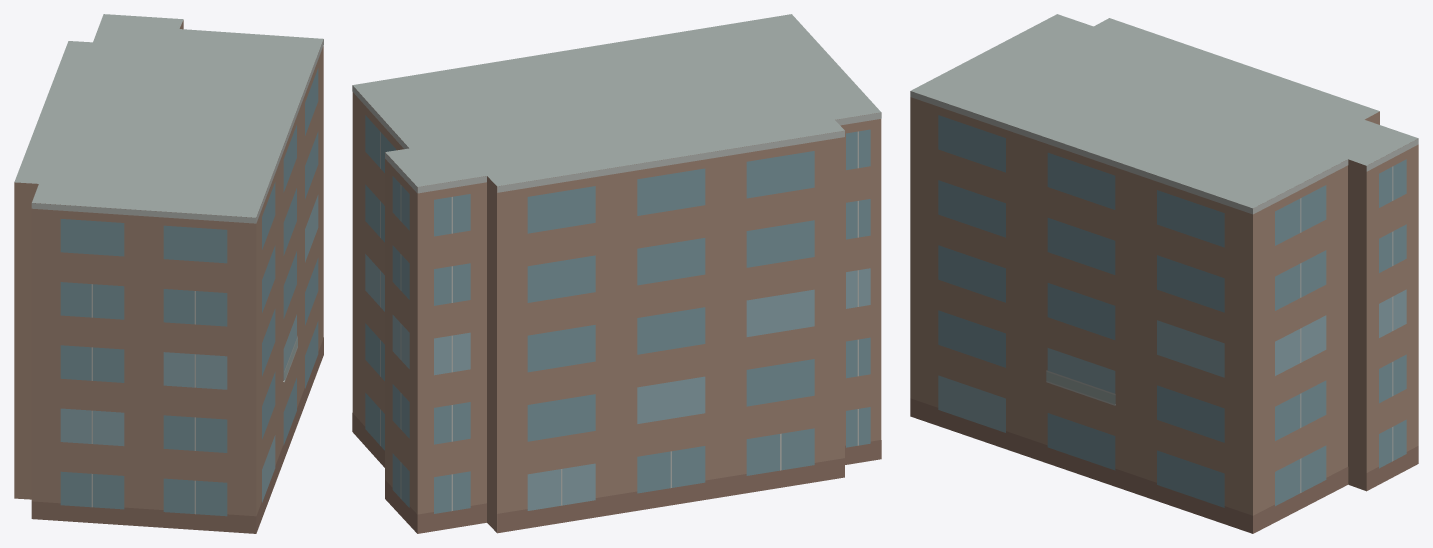
The model's file is survey-upis-32668494.glb.
The picture shows the model from 3 angles, left to right: view 1: azimuth 30°, elevation 25°; view 2: azimuth 150°, elevation 25°; view 3: azimuth 270°, elevation 25°; orthographic projection. The views are drawn at different scales.
Parts seen in each view (by area): view 1: survey-upis-32668494.tmp; view 2: survey-upis-32668494.tmp; view 3: survey-upis-32668494.tmp.
Boxes of the visible parts, x1,y1,x2,y2 form: survey-upis-32668494.tmp: [14, 14, 323, 533]; survey-upis-32668494.tmp: [352, 14, 881, 533]; survey-upis-32668494.tmp: [910, 14, 1418, 533].
Size of the model in its own units: 16.79 by 13.1 by 18.55.
